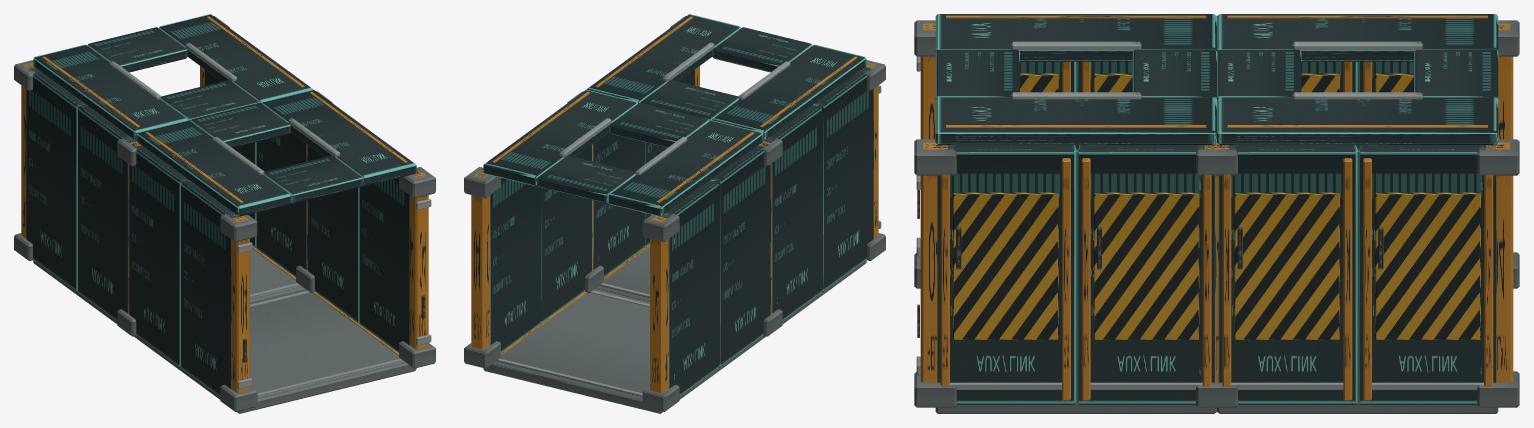
File: ServiceCorridor_LOD1.obj
3 renders of one model, left to right at view 1: azimuth 30°, elevation 25°; view 2: azimuth 150°, elevation 25°; view 3: azimuth 270°, elevation 25°, orthographic. The views are drawn at different scales.
Visible parts, largest first — view 1: 010_roof_skylight_4m.001, 011_roof_skylight_4m.001, 000_floor_4m.013, 005_wall_solid_2m.001, 003_wall_solid_2m.001, 004_wall_solid_2m.001, 002_wall_solid_2m.001, 006_wall_solid_2m.001, 007_wall_solid_2m.001, 012_column_4m.013, 008_wall_solid_2m.001, 015_column_4m.013 (+5 smaller); view 2: 011_roof_skylight_4m.001, 010_roof_skylight_4m.001, 001_floor_4m.005, 002_wall_solid_2m.001, 004_wall_solid_2m.001, 003_wall_solid_2m.001, 005_wall_solid_2m.001, 009_wall_solid_2m.001, 008_wall_solid_2m.001, 014_column_4m.013, 007_wall_solid_2m.001, 017_column_4m.005 (+5 smaller); view 3: 009_wall_solid_2m.001, 006_wall_solid_2m.001, 007_wall_solid_2m.001, 008_wall_solid_2m.001, 010_roof_skylight_4m.001, 011_roof_skylight_4m.001, 015_column_4m.013, 017_column_4m.005, 016_column_4m.005, 000_floor_4m.013, 001_floor_4m.005, 012_column_4m.013 (+5 smaller).
Boxes of the visible parts, x1=… form: 010_roof_skylight_4m.001: x1=136, y1=89, x2=416, y2=216; 011_roof_skylight_4m.001: x1=33, y1=14, x2=312, y2=140; 000_floor_4m.013: x1=136, y1=289, x2=416, y2=413; 005_wall_solid_2m.001: x1=26, y1=67, x2=86, y2=291; 003_wall_solid_2m.001: x1=129, y1=143, x2=188, y2=367; 004_wall_solid_2m.001: x1=78, y1=105, x2=135, y2=320; 002_wall_solid_2m.001: x1=181, y1=180, x2=238, y2=396; 006_wall_solid_2m.001: x1=359, y1=169, x2=421, y2=352; 007_wall_solid_2m.001: x1=308, y1=145, x2=359, y2=323; 012_column_4m.013: x1=220, y1=213, x2=257, y2=411; 008_wall_solid_2m.001: x1=256, y1=132, x2=306, y2=277; 015_column_4m.013: x1=399, y1=167, x2=435, y2=368; 011_roof_skylight_4m.001: x1=483, y1=89, x2=763, y2=216; 010_roof_skylight_4m.001: x1=587, y1=14, x2=866, y2=140; 001_floor_4m.005: x1=483, y1=289, x2=763, y2=413; 002_wall_solid_2m.001: x1=813, y1=67, x2=873, y2=291; 004_wall_solid_2m.001: x1=711, y1=143, x2=770, y2=367; 003_wall_solid_2m.001: x1=764, y1=105, x2=821, y2=320; 005_wall_solid_2m.001: x1=661, y1=180, x2=718, y2=396; 009_wall_solid_2m.001: x1=478, y1=169, x2=540, y2=352; 008_wall_solid_2m.001: x1=540, y1=145, x2=591, y2=323; 014_column_4m.013: x1=642, y1=212, x2=679, y2=411; 007_wall_solid_2m.001: x1=593, y1=132, x2=643, y2=277; 017_column_4m.005: x1=464, y1=167, x2=500, y2=368; 009_wall_solid_2m.001: x1=1357, y1=145, x2=1496, y2=404; 006_wall_solid_2m.001: x1=937, y1=145, x2=1076, y2=404; 007_wall_solid_2m.001: x1=1076, y1=145, x2=1215, y2=404; 008_wall_solid_2m.001: x1=1218, y1=145, x2=1357, y2=404; 010_roof_skylight_4m.001: x1=935, y1=14, x2=1216, y2=144; 011_roof_skylight_4m.001: x1=1217, y1=14, x2=1498, y2=144; 015_column_4m.013: x1=914, y1=139, x2=956, y2=407; 017_column_4m.005: x1=1477, y1=139, x2=1519, y2=407; 016_column_4m.005: x1=1196, y1=143, x2=1237, y2=407; 000_floor_4m.013: x1=935, y1=402, x2=1216, y2=413; 001_floor_4m.005: x1=1217, y1=402, x2=1498, y2=413; 012_column_4m.013: x1=914, y1=20, x2=935, y2=288.
Bounding box in the file's own units: 4.52 × 4.51 × 8.6.
1 material, 1 textured.
